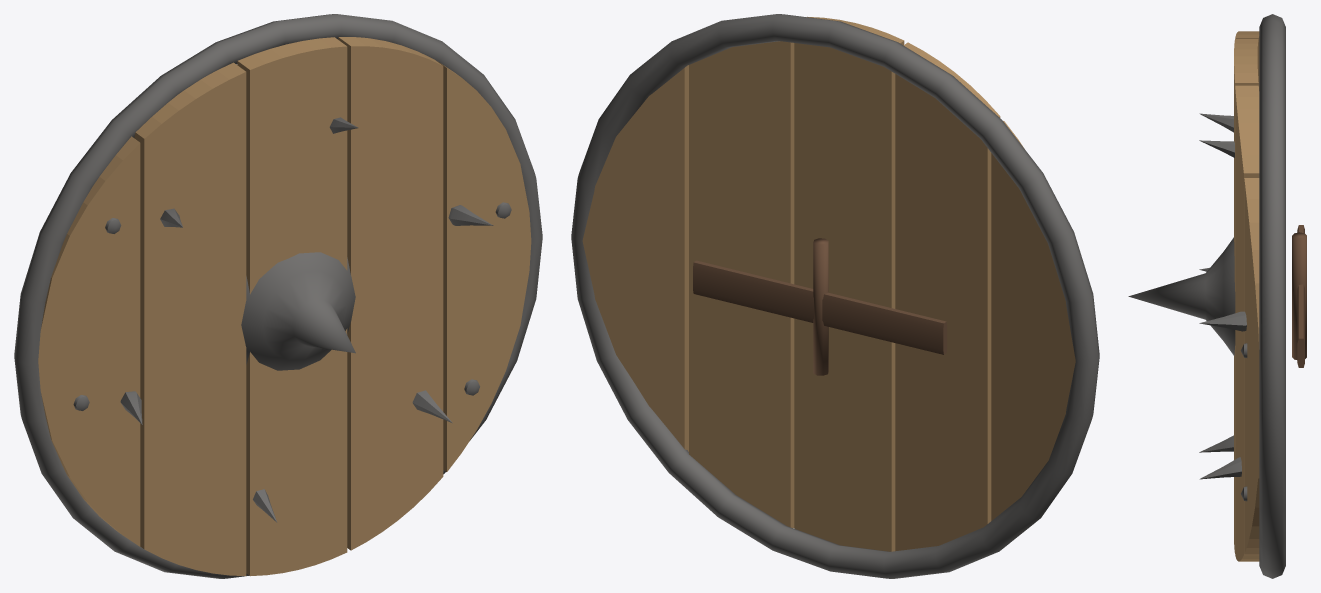
File: spiked-heavy-shield.glb
3 views of the same model, side by side, from view 1: azimuth 30°, elevation 25°; view 2: azimuth 150°, elevation 25°; view 3: azimuth 270°, elevation 25° (orthographic). The views are drawn at different scales.
Visible parts, largest first — view 1: spiked-heavy-shield; view 2: spiked-heavy-shield; view 3: spiked-heavy-shield.
Part boxes in pixels (left/top/right/bottom): spiked-heavy-shield: left=14, top=14, right=542, bottom=578; spiked-heavy-shield: left=571, top=14, right=1099, bottom=578; spiked-heavy-shield: left=1128, top=14, right=1306, bottom=578.
Size of the model in its own units: 1.68 by 1.68 by 0.532.
